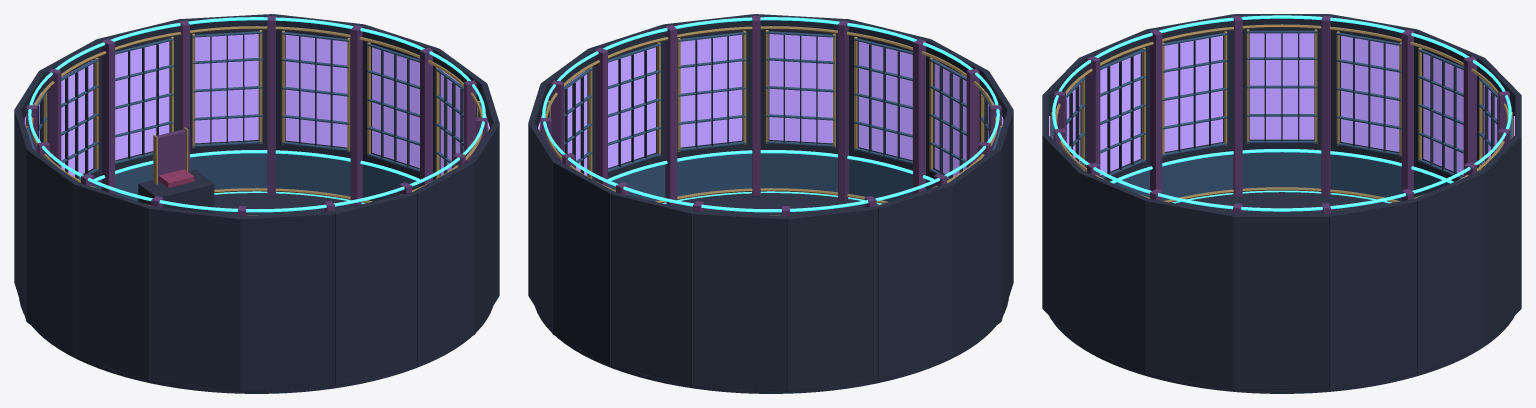
File: courtroom_stage.glb
The picture shows the model from 3 angles, left to right: view 1: azimuth 30°, elevation 25°; view 2: azimuth 150°, elevation 25°; view 3: azimuth 270°, elevation 25°; orthographic projection.
Visible parts, largest first — view 1: architecture_court_ink, architecture_court_window, architecture_court_violet, architecture_court_blue, architecture_court_gold, architecture_court_cyan, architecture_court_rose; view 2: architecture_court_ink, architecture_court_window, architecture_court_blue, architecture_court_violet, architecture_court_gold, architecture_court_cyan; view 3: architecture_court_ink, architecture_court_window, architecture_court_blue, architecture_court_violet, architecture_court_gold, architecture_court_cyan.
Boxes of the visible parts, x1,y1,x2,y2 form: architecture_court_ink: [14, 14, 499, 393]; architecture_court_window: [24, 34, 489, 176]; architecture_court_violet: [26, 15, 487, 216]; architecture_court_blue: [26, 31, 487, 201]; architecture_court_gold: [25, 26, 488, 215]; architecture_court_cyan: [28, 17, 485, 212]; architecture_court_rose: [158, 169, 194, 187]; architecture_court_ink: [528, 14, 1013, 393]; architecture_court_window: [538, 34, 1003, 176]; architecture_court_blue: [540, 31, 1001, 201]; architecture_court_violet: [540, 15, 1001, 216]; architecture_court_gold: [539, 26, 1002, 215]; architecture_court_cyan: [542, 17, 999, 212]; architecture_court_ink: [1042, 14, 1521, 393]; architecture_court_window: [1049, 33, 1514, 175]; architecture_court_blue: [1051, 30, 1512, 201]; architecture_court_violet: [1053, 15, 1510, 213]; architecture_court_gold: [1051, 24, 1512, 202]; architecture_court_cyan: [1052, 15, 1511, 211].
Size of the model in its own units: 26.05 by 10.85 by 26.05.
